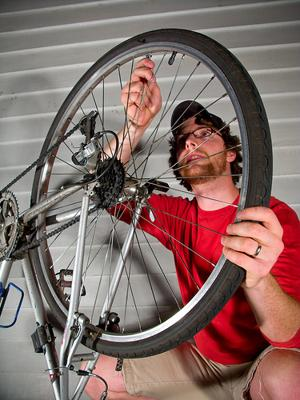person: (74, 54, 299, 398)
